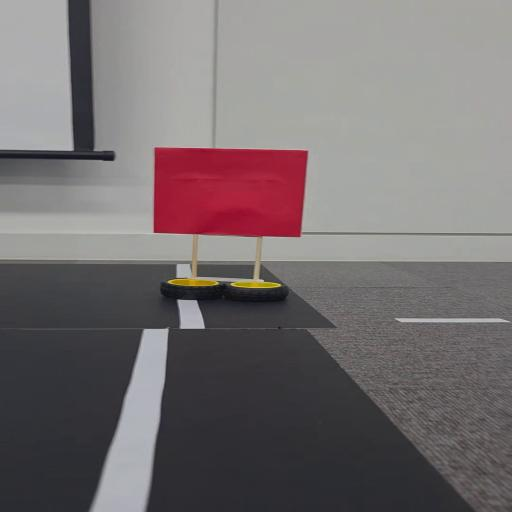Sign_A: (136, 146, 333, 310)
